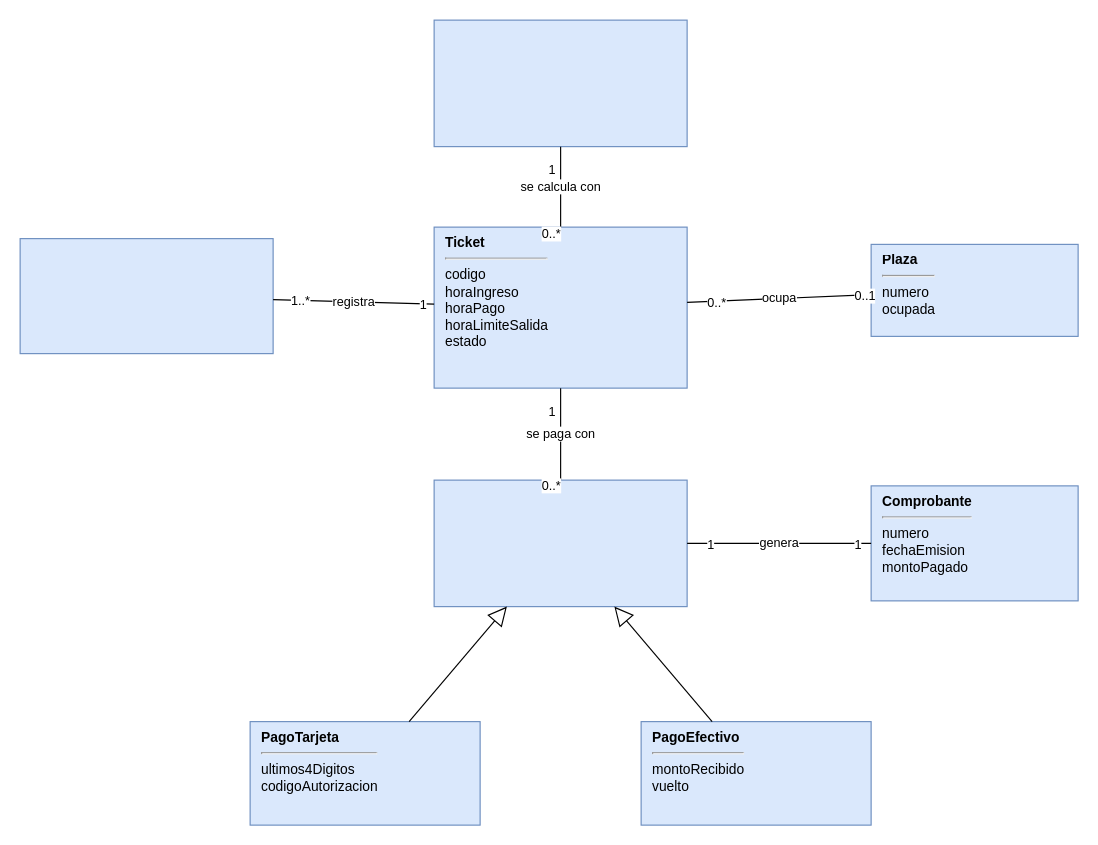
Image size: 1098x845. Some labels were removed from this diagram. Each missing label, with the box of its shape:
Movimiento tipo (ingreso, pago, egreso) fechaHora: (19, 237, 273, 354)
Pago monto fechaHora concepto (estadía, cargo adicional): (433, 479, 687, 607)
Tarifa valorPorHora tarifaMaximaDiaria minutosCortesia cargoAdicional: (433, 19, 687, 147)
